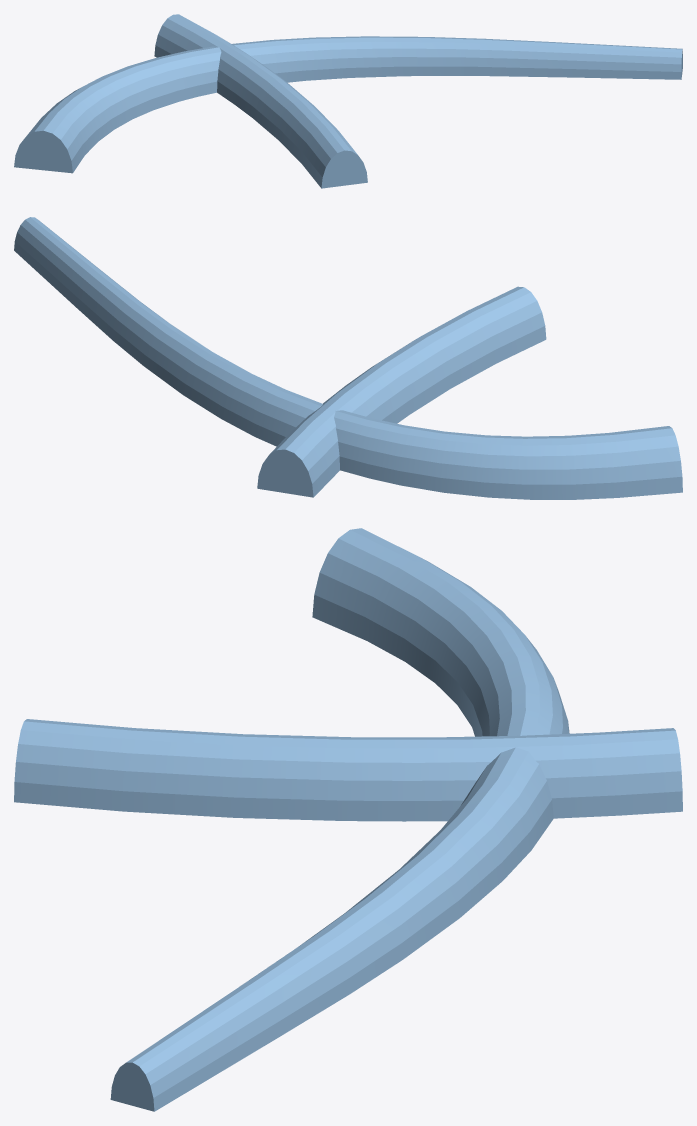
3 views of the same model, one above another, from view 1: azimuth 30°, elevation 25°; view 2: azimuth 150°, elevation 25°; view 3: azimuth 270°, elevation 25° (orthographic). The views are drawn at different scales.
Visible parts, largest first — view 1: unione; view 2: unione; view 3: unione.
Boxes of the visible parts, <box> form: unione: <box>14,14,682,188</box>; unione: <box>14,217,682,499</box>; unione: <box>14,528,682,1111</box>.
Bounding box in the file's own units: 57.46 × 3.6 × 30.78.
